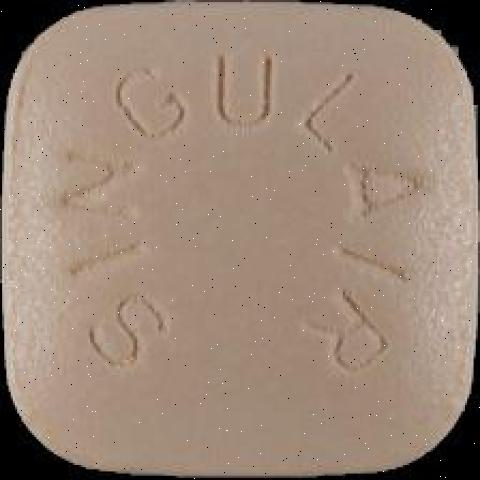Pill: (6, 6, 480, 478)
